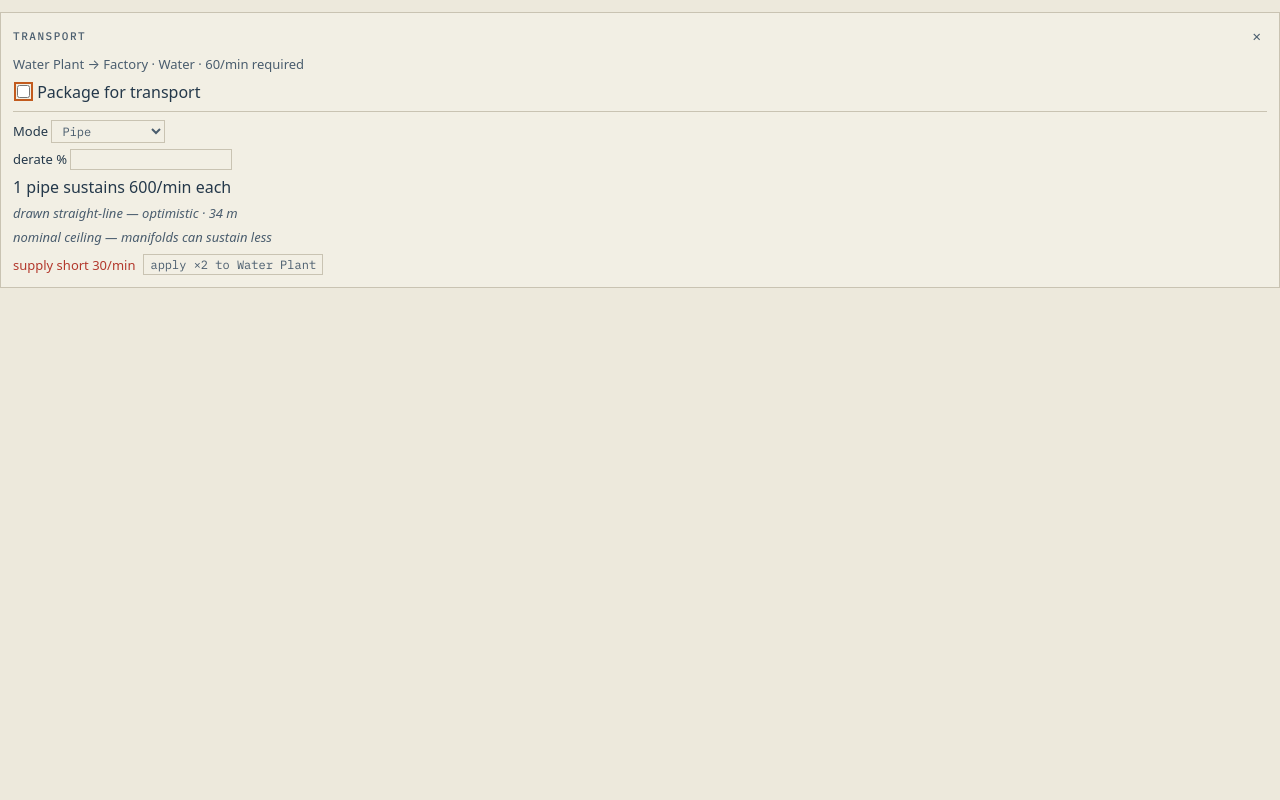
Test: LinkInspector packaging intersteps › enables the sole pair with belt defaults and renders exact plan math
What coordinates should you click on to do the following:
click the checkbox labelled "Package for transport"
I would click on:
 (24, 92)
Its box is [17,85,30,98].
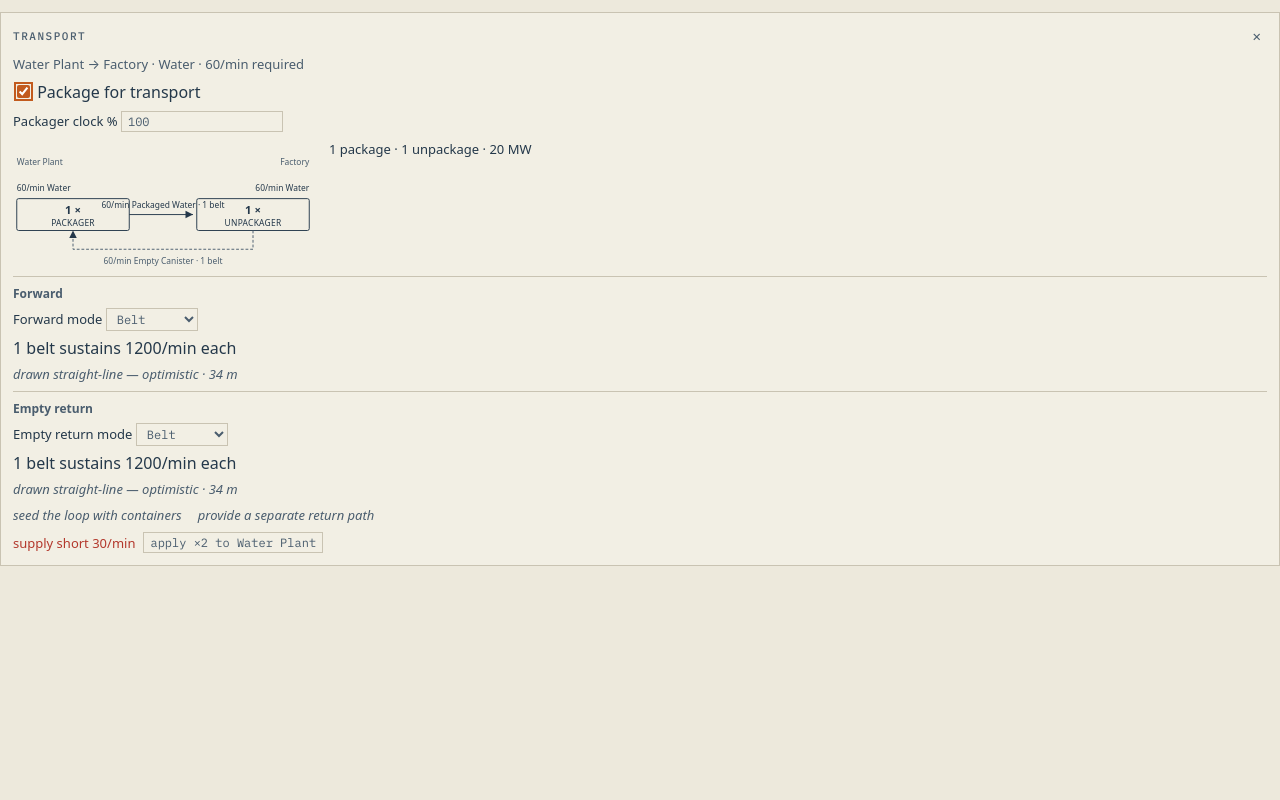
Now the text "1 package · 1 unpackage · 20 MW" is shown, box [329,140,532,158]
Now the text "1 ×" is shown, box [13,148,313,268]
Now the text "60/min Packaged Water · 1 belt" is shown, box [102,199,224,210]
